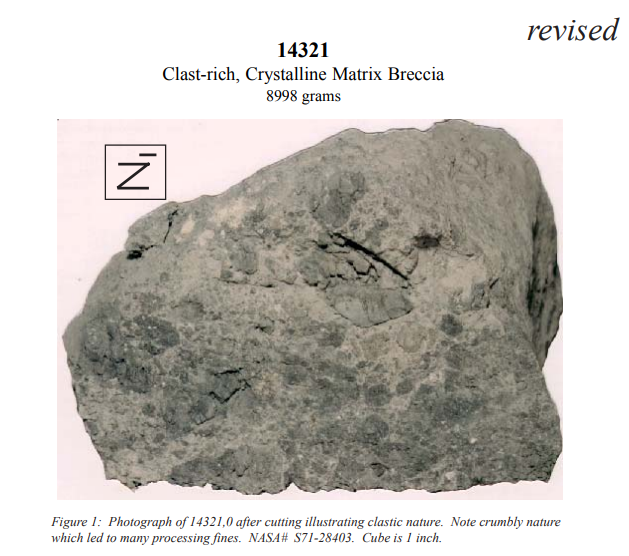Breccia: (64, 126, 560, 500), (322, 140, 551, 472), (250, 184, 498, 453), (104, 264, 393, 476)
